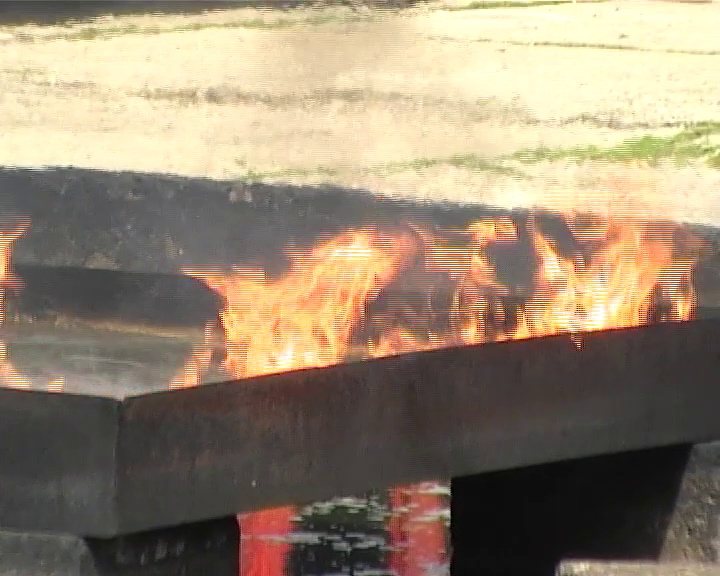fire: (173, 218, 705, 372)
